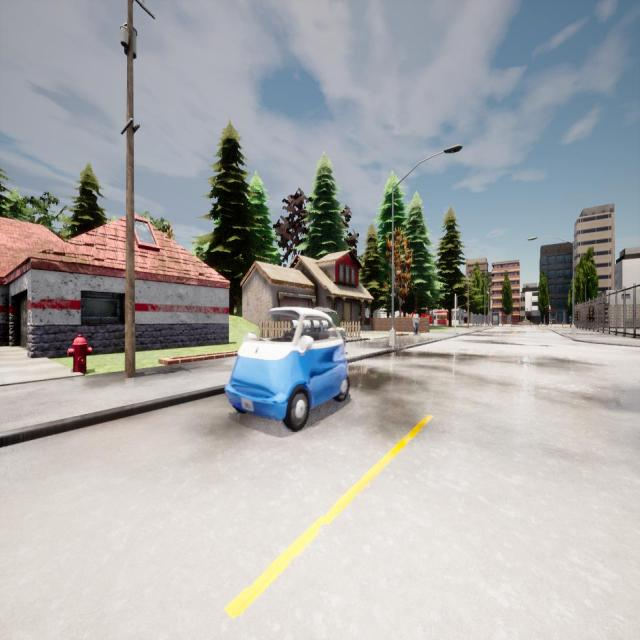Pedestrian: (412, 310, 419, 334), (568, 314, 572, 327)
Vehicle: (225, 307, 349, 430)
traffic_light: (455, 297, 458, 308), (549, 307, 551, 314)
